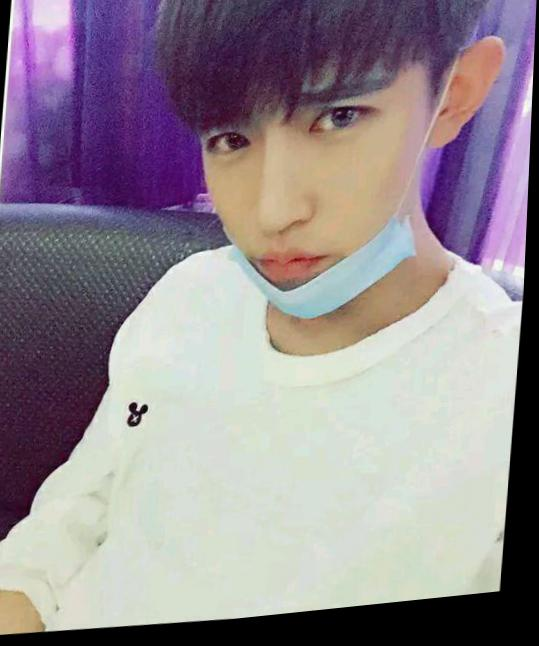WRONG: (193, 56, 422, 340)
